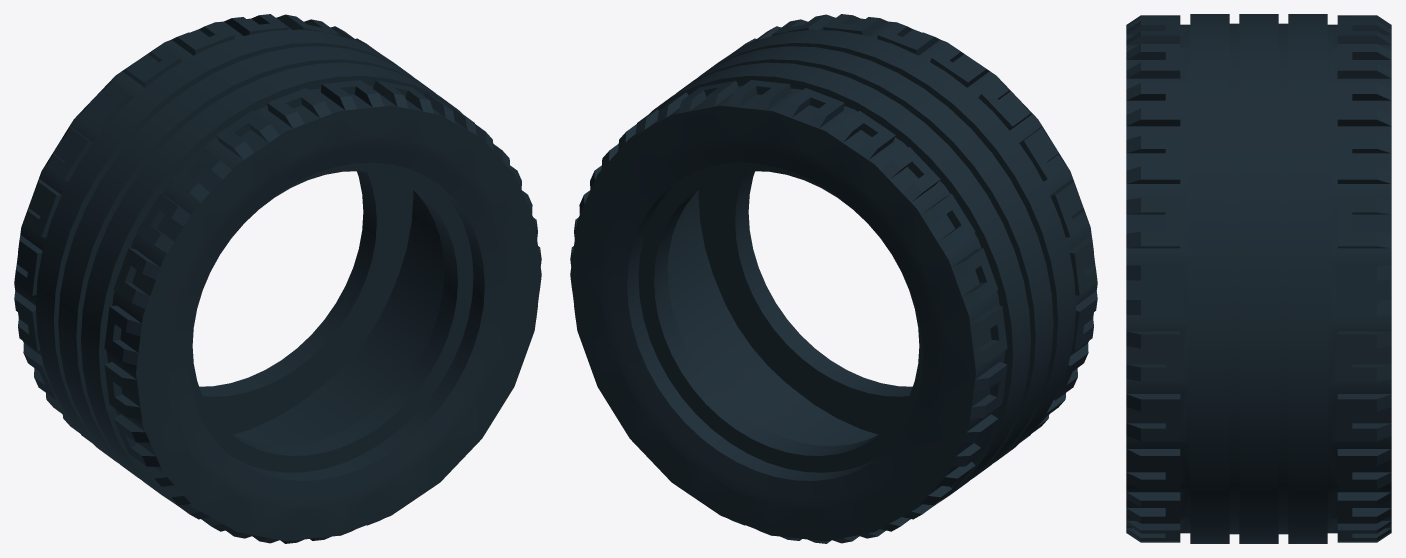
Rendered from wheel_43_tyre.glb.
3 renders of one model, left to right at view 1: azimuth 30°, elevation 25°; view 2: azimuth 150°, elevation 25°; view 3: azimuth 270°, elevation 25°, orthographic. The views are drawn at different scales.
Visible parts, largest first — view 1: 44309.dat; view 2: 44309.dat; view 3: 44309.dat.
Boxes of the visible parts, box(x1,y1,x2,y2) form: 44309.dat: box(14, 14, 541, 543); 44309.dat: box(570, 14, 1097, 543); 44309.dat: box(1126, 14, 1391, 543).
Bounding box in the file's own units: 2.16 × 2.16 × 1.08.
